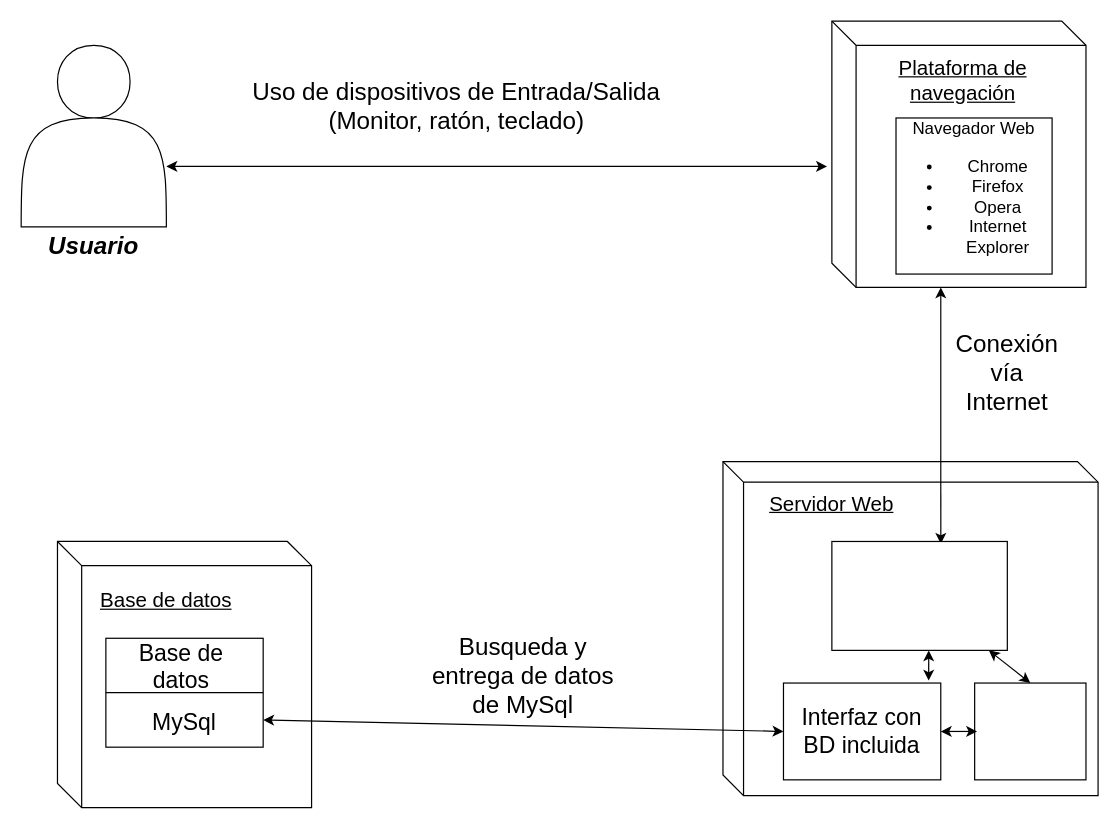
The diagram is 1119 pixels wide and 829 high, and some of its shapes have lost their labels. The shapes that lost their labels are listed below. From the top down, each one's centre as x and y in pixels, then its label:
At (x=919, y=595): "Pagina Web (HTML, CSS, JavaScript, etc)".
At (x=1029, y=731): "HTTP - Apache".
